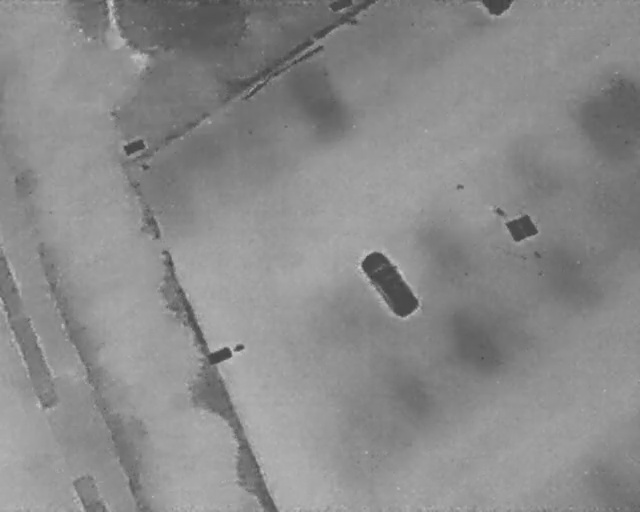Car: (355, 245, 424, 323)
